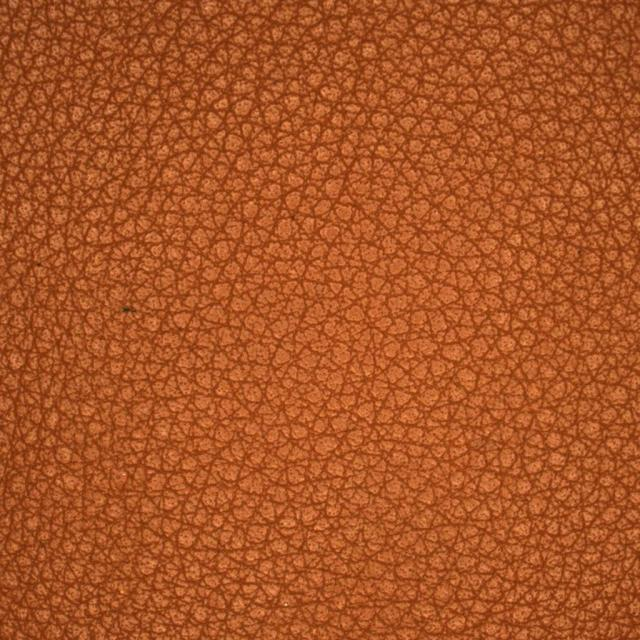Hole: (33, 242, 223, 375)
